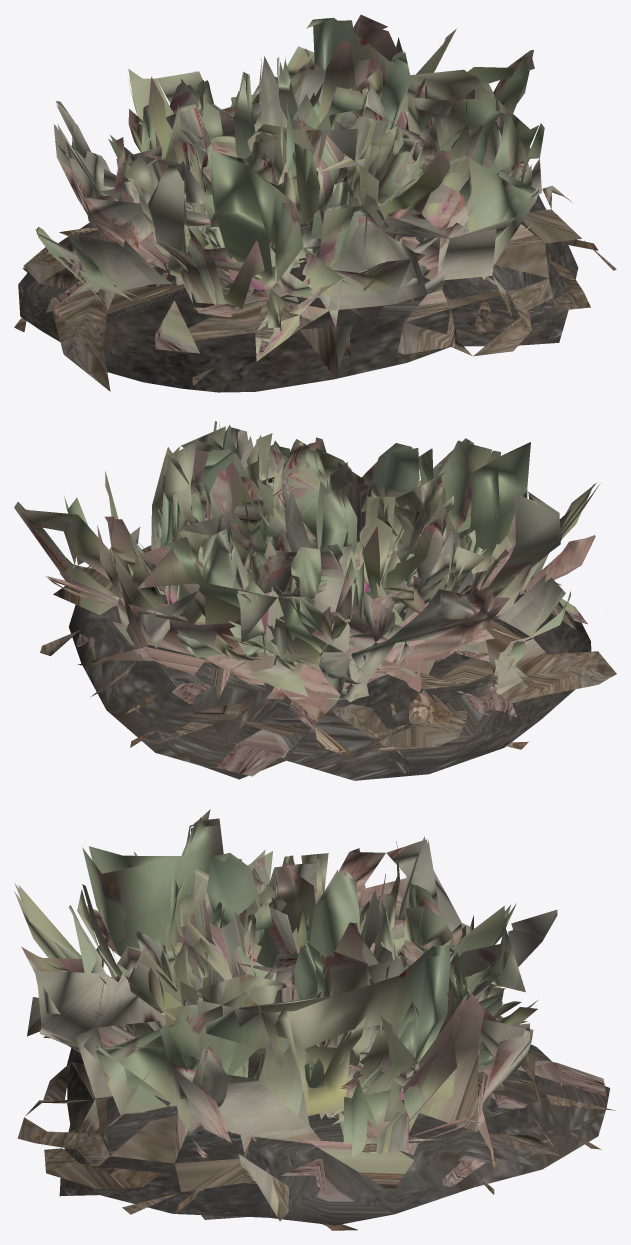
The model's file is succulents.glb.
3 views of the same model, one above another, from view 1: azimuth 30°, elevation 25°; view 2: azimuth 150°, elevation 25°; view 3: azimuth 270°, elevation 25° (orthographic). The views are drawn at different scales.
Parts seen in each view (by area): view 1: cheiridopsis_succulent_h_LOD0, cheiridopsis_succulent_g_LOD0, cheiridopsis_succulent_e_LOD0; view 2: cheiridopsis_succulent_h_LOD0, cheiridopsis_succulent_g_LOD0, cheiridopsis_succulent_e_LOD0; view 3: cheiridopsis_succulent_h_LOD0, cheiridopsis_succulent_g_LOD0, cheiridopsis_succulent_e_LOD0.
Boxes of the visible parts, left/top/right/bottom form: cheiridopsis_succulent_h_LOD0: left=14, top=14, right=616, bottom=392; cheiridopsis_succulent_g_LOD0: left=22, top=41, right=598, bottom=328; cheiridopsis_succulent_e_LOD0: left=108, top=56, right=531, bottom=285; cheiridopsis_succulent_h_LOD0: left=14, top=421, right=616, bottom=780; cheiridopsis_succulent_g_LOD0: left=133, top=439, right=536, bottom=773; cheiridopsis_succulent_e_LOD0: left=156, top=437, right=508, bottom=715; cheiridopsis_succulent_h_LOD0: left=14, top=809, right=615, bottom=1225; cheiridopsis_succulent_g_LOD0: left=77, top=836, right=557, bottom=1230; cheiridopsis_succulent_e_LOD0: left=110, top=862, right=505, bottom=1099.
Size of the model in its own units: 0.5746 by 0.2327 by 0.5162.
1 material, 1 textured.
